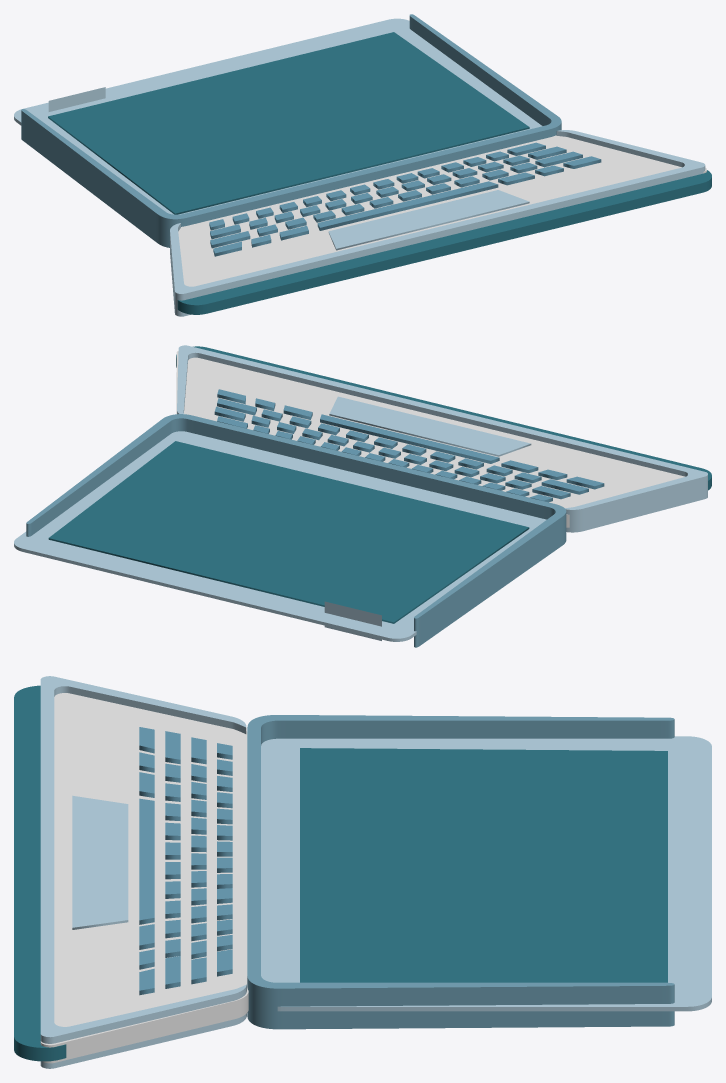
Rendered from emoji_u1f4bb.glb.
3 views of the same model, one above another, from view 1: azimuth 30°, elevation 25°; view 2: azimuth 150°, elevation 25°; view 3: azimuth 270°, elevation 25° (orthographic). The views are drawn at different scales.
Parts seen in each view (by area): view 1: emoji_u1f4bb; view 2: emoji_u1f4bb; view 3: emoji_u1f4bb.
Part boxes in pixels (box(x1,y1,x2,y2)): emoji_u1f4bb: box(14, 14, 711, 316); emoji_u1f4bb: box(14, 345, 711, 647); emoji_u1f4bb: box(14, 676, 711, 1068).
Bounding box in the file's own units: 0.0344 × 0.0018 × 0.0279.
